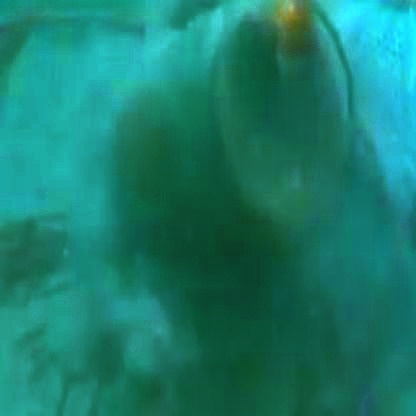gbottle: (124, 45, 376, 323)
